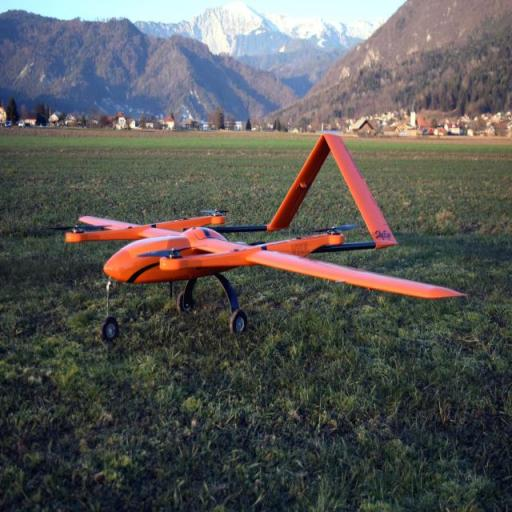uav: (49, 130, 469, 356)
